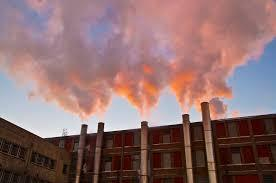smoke: (0, 0, 276, 119)
